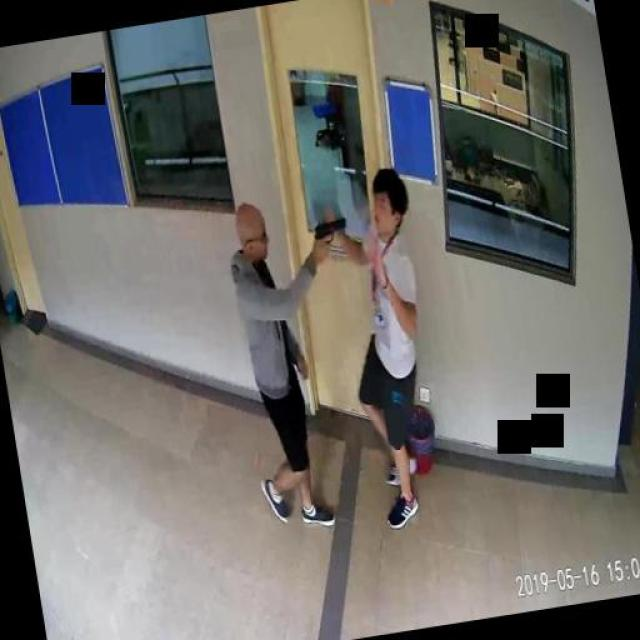gun: (311, 214, 349, 255)
